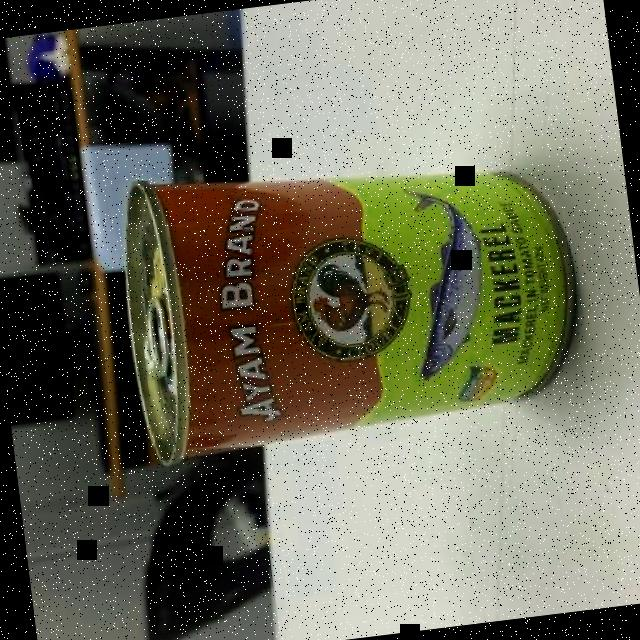can: (107, 128, 590, 464)
